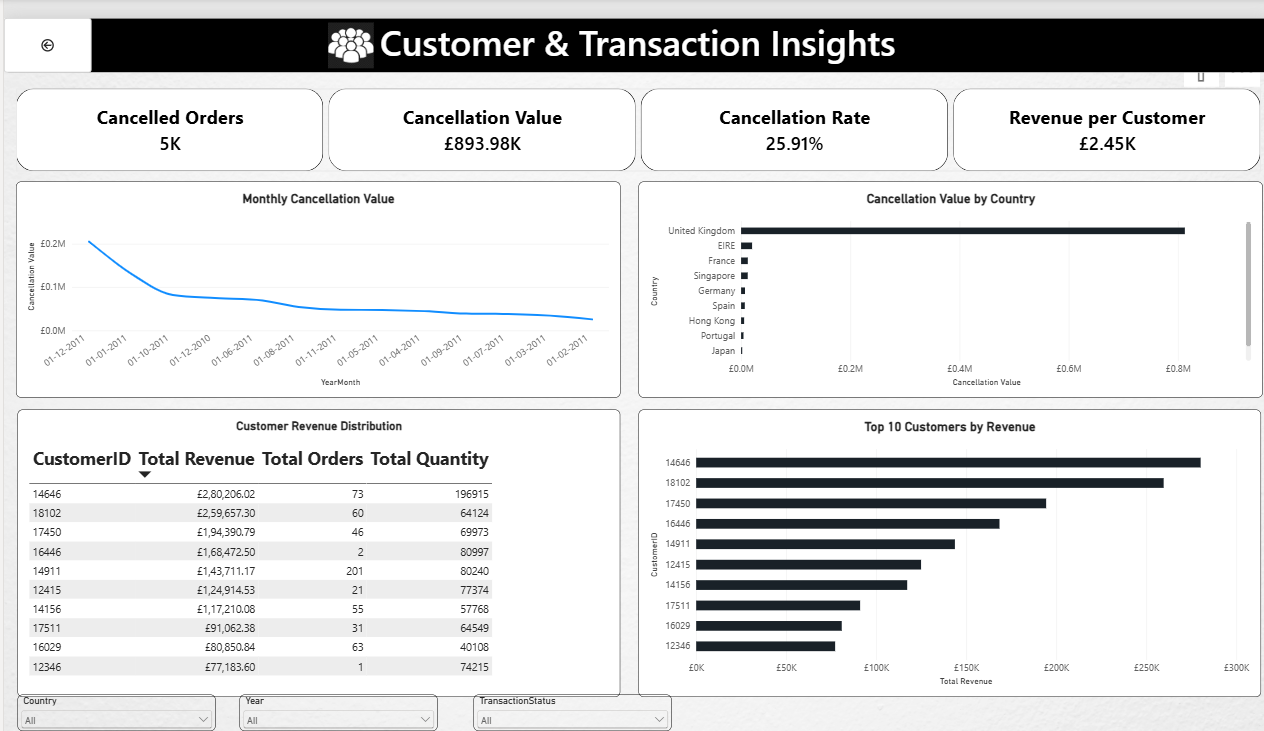

The page's visual inventory and layout, read from the dashboard file:
{"tool":"powerbi","page":{"name":"Customer & Transaction Insights","canvas":[1920,1080],"ordinal":1},"visuals":[{"type":"cardVisual","fields":{"Data":["Table.Cancelled Orders","Table.Cancellation Value","Table.Cancellation Rate","Table.Revenue per Customer"]},"box":[17.5,107.5,1885,125],"z":0},{"type":"clusteredBarChart","title":"Top 10 Customers by Revenue","fields":{"Category":["Retail2.CustomerID"],"Y":["Table.Total Revenue"]},"box":[960,592.5,942.5,435],"z":1000},{"type":"tableEx","title":"Customer Revenue Distribution","fields":{"Values":["Retail2.CustomerID","Table.Total Revenue","Table.Total Orders","Table.Total Quantity"]},"box":[20,592.5,912.5,435],"z":2000},{"type":"lineChart","title":"Monthly Cancellation Value ","fields":{"Category":["Retail2.YearMonth"],"Y":["Table.Cancellation Value"]},"box":[17.5,247.5,915,327.5],"z":3000},{"type":"barChart","title":"Cancellation Value by Country","fields":{"Category":["Retail2.Country"],"Y":["Table.Cancellation Value"]},"box":[960,247.5,945,327.5],"z":4000},{"type":"textbox","box":[0,0,1920,82.5],"z":5000},{"type":"slicer","fields":{"Values":["Retail2.Country"]},"box":[20,1025,300,55],"z":6000},{"type":"slicer","fields":{"Values":["Retail2.Year"]},"box":[357.5,1025,300,55],"z":7000},{"type":"slicer","fields":{"Values":["Retail2.TransactionStatus"]},"box":[710,1025,300,55],"z":8000},{"type":"actionButton","box":[0,0,132.5,82.5],"z":9000},{"type":"image","box":[491.3,6.5,69.6,69.6],"z":9001}]}

Visuals, with their boxes on the page's 1920x1080 design canvas (x1, y1, x2, y2). These are canvas units, not pixel positions in the 1264x731 screenshot, which may show the page scaled, cropped or inside an application window:
cardVisual - Table.Cancelled Orders x Table.Cancellation Value: x1=18 y1=108 x2=1902 y2=232
"Top 10 Customers by Revenue" clusteredBarChart: x1=960 y1=592 x2=1902 y2=1028
"Customer Revenue Distribution" tableEx: x1=20 y1=592 x2=932 y2=1028
"Monthly Cancellation Value " lineChart: x1=18 y1=248 x2=932 y2=575
"Cancellation Value by Country" barChart: x1=960 y1=248 x2=1905 y2=575
textbox: x1=0 y1=0 x2=1920 y2=82
slicer - Retail2.Country: x1=20 y1=1025 x2=320 y2=1080
slicer - Retail2.Year: x1=358 y1=1025 x2=658 y2=1080
slicer - Retail2.TransactionStatus: x1=710 y1=1025 x2=1010 y2=1080
actionButton: x1=0 y1=0 x2=132 y2=82
image: x1=491 y1=6 x2=561 y2=76
